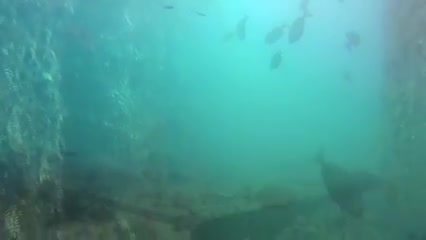smallfish: (285, 5, 316, 46)
